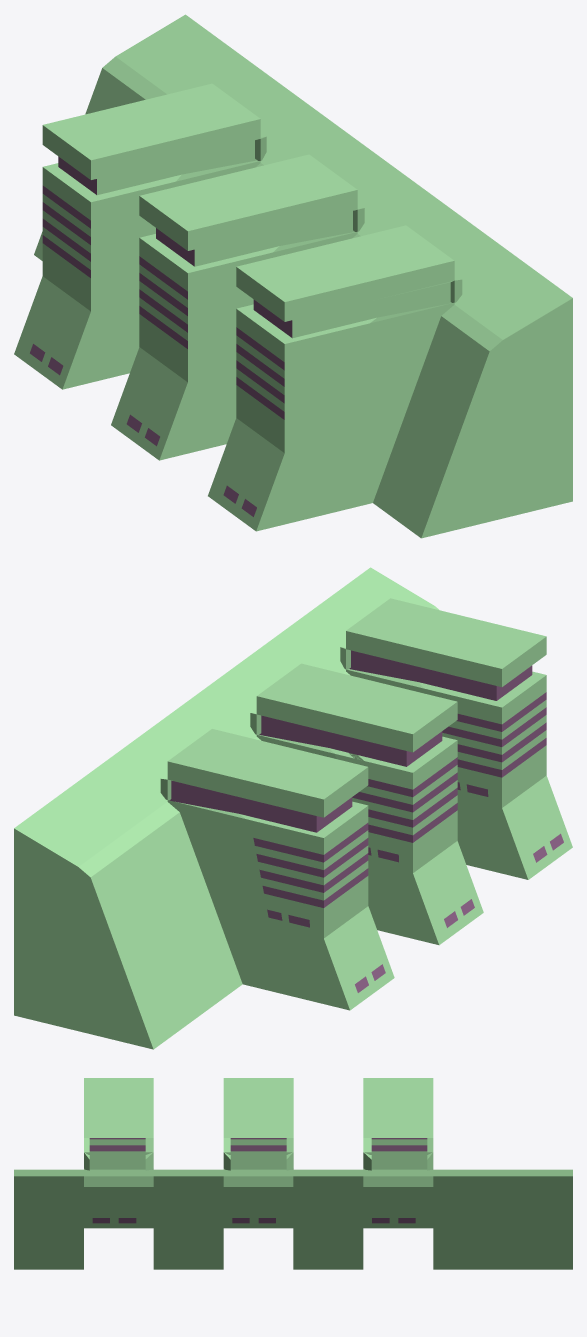
Rendered from building1.glb.
3 renders of one model, top to bottom at view 1: azimuth 30°, elevation 25°; view 2: azimuth 150°, elevation 25°; view 3: azimuth 270°, elevation 25°, orthographic. The views are drawn at different scales.
Parts seen in each view (by area): view 1: building1; view 2: building1; view 3: building1.
Boxes of the visible parts, box(x1,y1,x2,y2) form: building1: box(14, 14, 572, 538); building1: box(14, 567, 572, 1049); building1: box(14, 1078, 572, 1269).
Size of the model in its own units: 23 by 18.21 by 57.5.
